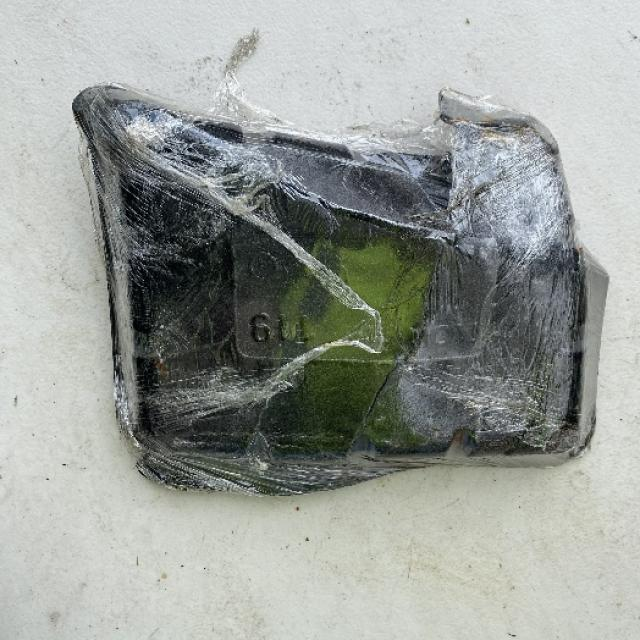inorganic: (73, 78, 614, 497)
